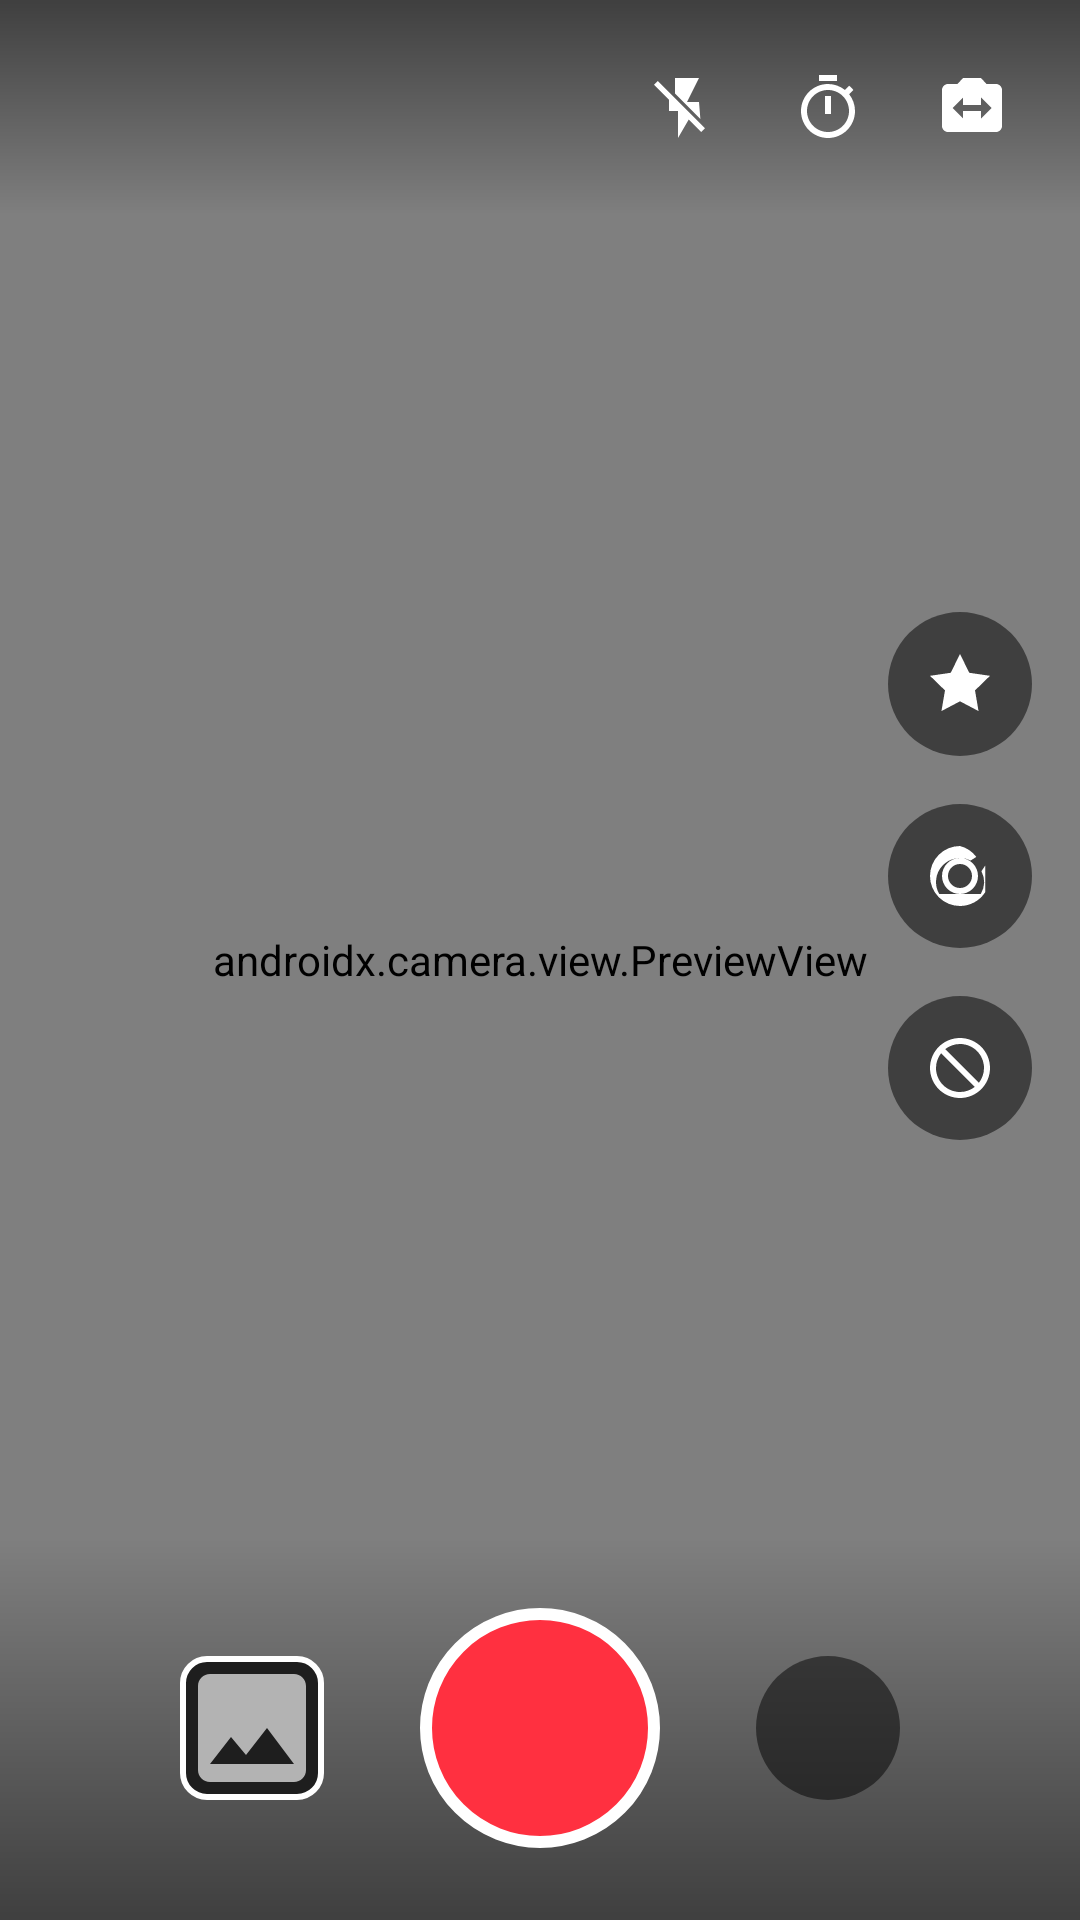

Locate icon controls on the screen. Image size 1080px x 1920px, boxes as (x1, y1, x2, y2).
effects: (888, 612, 1032, 756)
